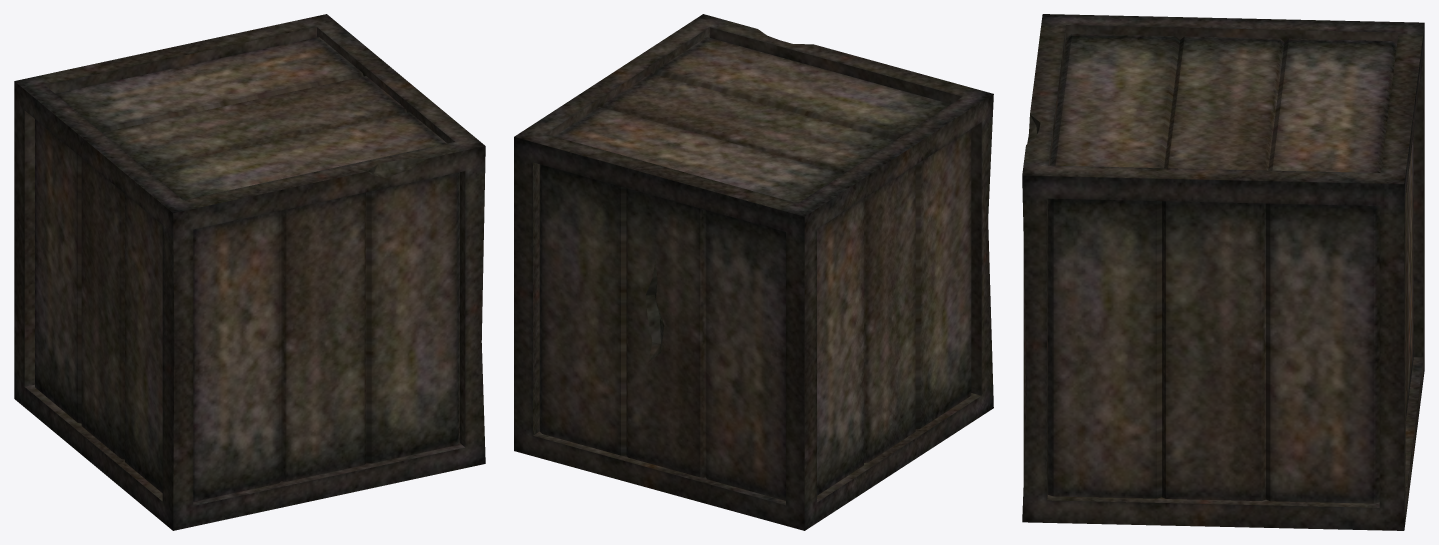
3 views of the same model, side by side, from view 1: azimuth 30°, elevation 25°; view 2: azimuth 150°, elevation 25°; view 3: azimuth 270°, elevation 25° (orthographic). The views are drawn at different scales.
Parts seen in each view (by area): view 1: wooden_crate_3; view 2: wooden_crate_3; view 3: wooden_crate_3.
Part boxes in pixels (x1,y1,x2,y2): wooden_crate_3: (14,14,485,530); wooden_crate_3: (514,14,993,530); wooden_crate_3: (1022,14,1424,530).
Size of the model in its own units: 1.14 by 1.08 by 1.14.
1 material, 1 textured.
